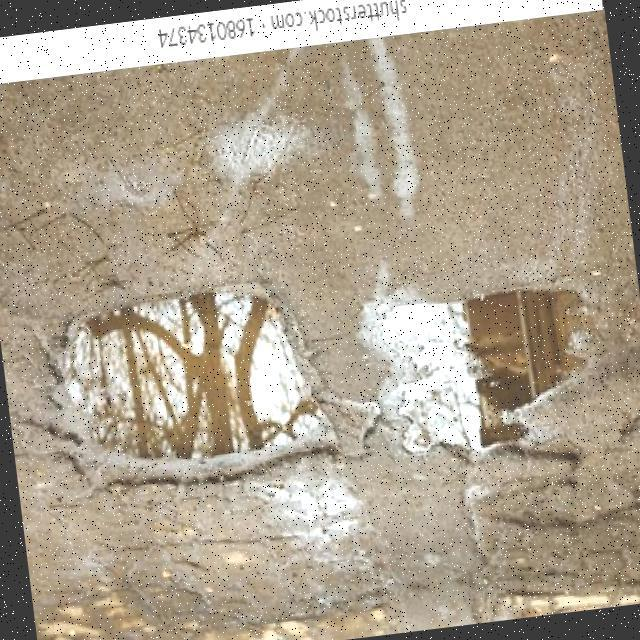Pothole: (48, 291, 335, 485), (381, 290, 575, 449)
